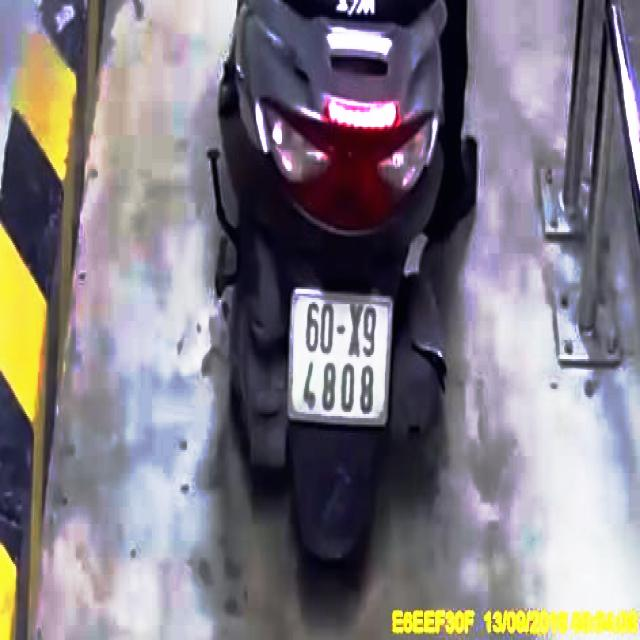license_plate: (290, 292, 395, 432)
